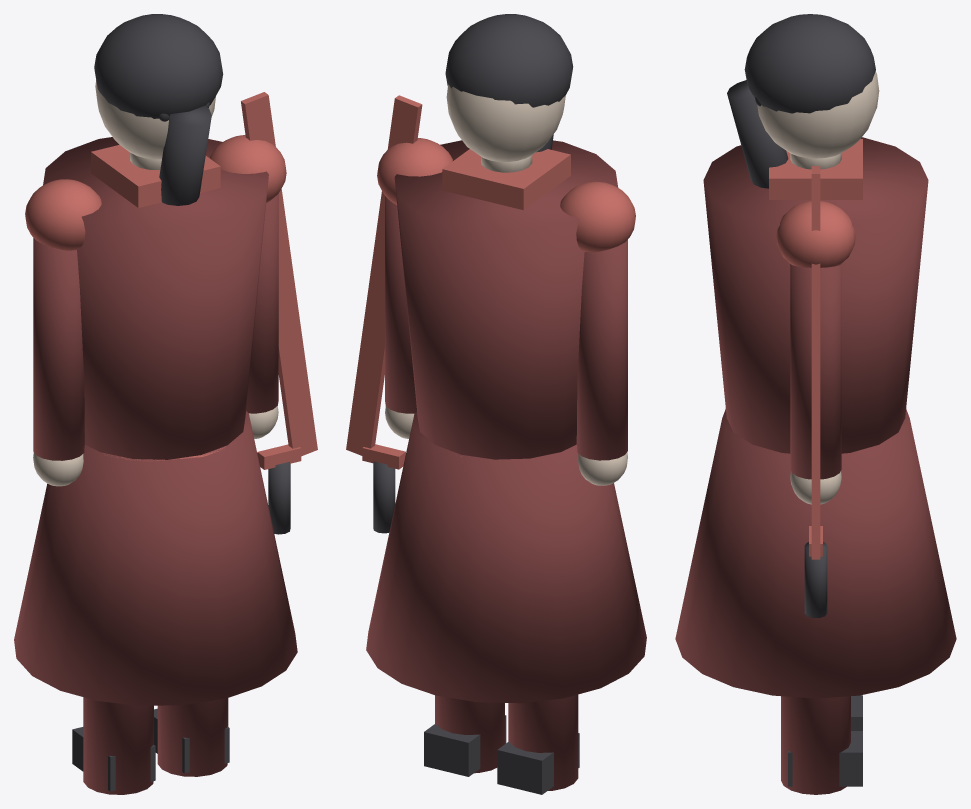
File: han-qianren.glb
3 renders of one model, left to right at view 1: azimuth 30°, elevation 25°; view 2: azimuth 150°, elevation 25°; view 3: azimuth 270°, elevation 25°, orthographic.
Parts seen in each view (by area): view 1: han-qianren_robe, han-qianren_torso, han-qianren_hair, han-qianren_arm-0.235, han-qianren_blade, han-qianren_leg-0.09, han-qianren_arm0.235, han-qianren_leg0.09, han-qianren_shoulder-0.22, han-qianren_pigtail, han-qianren_collar, han-qianren_head (+7 smaller); view 2: han-qianren_robe, han-qianren_torso, han-qianren_arm-0.235, han-qianren_hair, han-qianren_blade, han-qianren_head, han-qianren_collar, han-qianren_arm0.235, han-qianren_leg-0.09, han-qianren_shoulder-0.22, han-qianren_leg0.09, han-qianren_shoulder0.22 (+7 smaller); view 3: han-qianren_robe, han-qianren_torso, han-qianren_hair, han-qianren_arm0.235, han-qianren_leg0.09, han-qianren_head, han-qianren_shoulder0.22, han-qianren_blade, han-qianren_collar, han-qianren_pigtail, han-qianren_grip, han-qianren_boot0.09 (+2 smaller).
Boxes of the visible parts, <box> form: han-qianren_robe: <box>14,411,297,705</box>; han-qianren_torso: <box>43,137,268,459</box>; han-qianren_hair: <box>94,14,223,118</box>; han-qianren_arm-0.235: <box>33,238,84,460</box>; han-qianren_blade: <box>241,92,317,456</box>; han-qianren_leg-0.09: <box>83,697,153,794</box>; han-qianren_arm0.235: <box>246,194,278,413</box>; han-qianren_leg0.09: <box>157,698,228,776</box>; han-qianren_shoulder-0.22: <box>25,179,101,250</box>; han-qianren_pigtail: <box>159,105,211,205</box>; han-qianren_collar: <box>91,145,220,207</box>; han-qianren_head: <box>95,80,215,159</box>; han-qianren_robe: <box>366,411,646,703</box>; han-qianren_torso: <box>394,140,618,459</box>; han-qianren_arm-0.235: <box>576,239,627,460</box>; han-qianren_hair: <box>445,14,573,107</box>; han-qianren_blade: <box>346,95,422,455</box>; han-qianren_head: <box>446,84,565,161</box>; han-qianren_collar: <box>442,149,570,210</box>; han-qianren_arm0.235: <box>385,196,416,413</box>; han-qianren_leg-0.09: <box>508,694,578,790</box>; han-qianren_shoulder-0.22: <box>560,181,635,252</box>; han-qianren_leg0.09: <box>435,695,504,773</box>; han-qianren_shoulder0.22: <box>377,138,452,204</box>; han-qianren_robe: <box>675,409,956,698</box>; han-qianren_torso: <box>703,137,928,453</box>; han-qianren_hair: <box>744,14,875,113</box>; han-qianren_arm0.235: <box>790,264,841,479</box>; han-qianren_leg0.09: <box>781,696,850,794</box>; han-qianren_head: <box>757,71,879,158</box>; han-qianren_shoulder0.22: <box>776,200,855,267</box>; han-qianren_blade: <box>811,166,820,559</box>; han-qianren_collar: <box>769,139,862,199</box>; han-qianren_pigtail: <box>727,80,788,188</box>; han-qianren_grip: <box>804,542,827,617</box>; han-qianren_boot0.09: <box>788,731,862,786</box>.
Bounding box in the file's own units: 0.6936 × 1.74 × 0.6.
